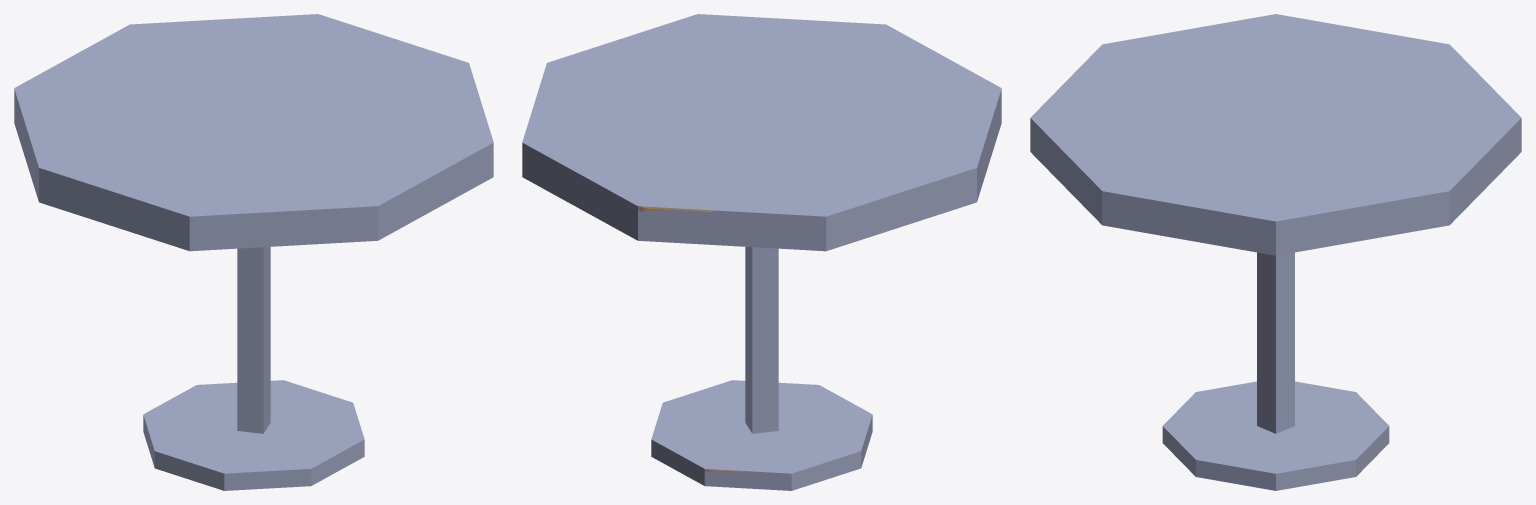
Rendered from table_round_01.FBX.
The picture shows the model from 3 angles, left to right: view 1: azimuth 30°, elevation 25°; view 2: azimuth 150°, elevation 25°; view 3: azimuth 270°, elevation 25°; orthographic projection.
Visible parts, largest first — view 1: table_round_01; view 2: table_round_01; view 3: table_round_01.
Part boxes in pixels (x1=…): table_round_01: x1=14, y1=14, x2=493, y2=490; table_round_01: x1=522, y1=14, x2=1001, y2=490; table_round_01: x1=1030, y1=14, x2=1521, y2=490.
Size of the model in its own units: 104 by 76 by 104.
